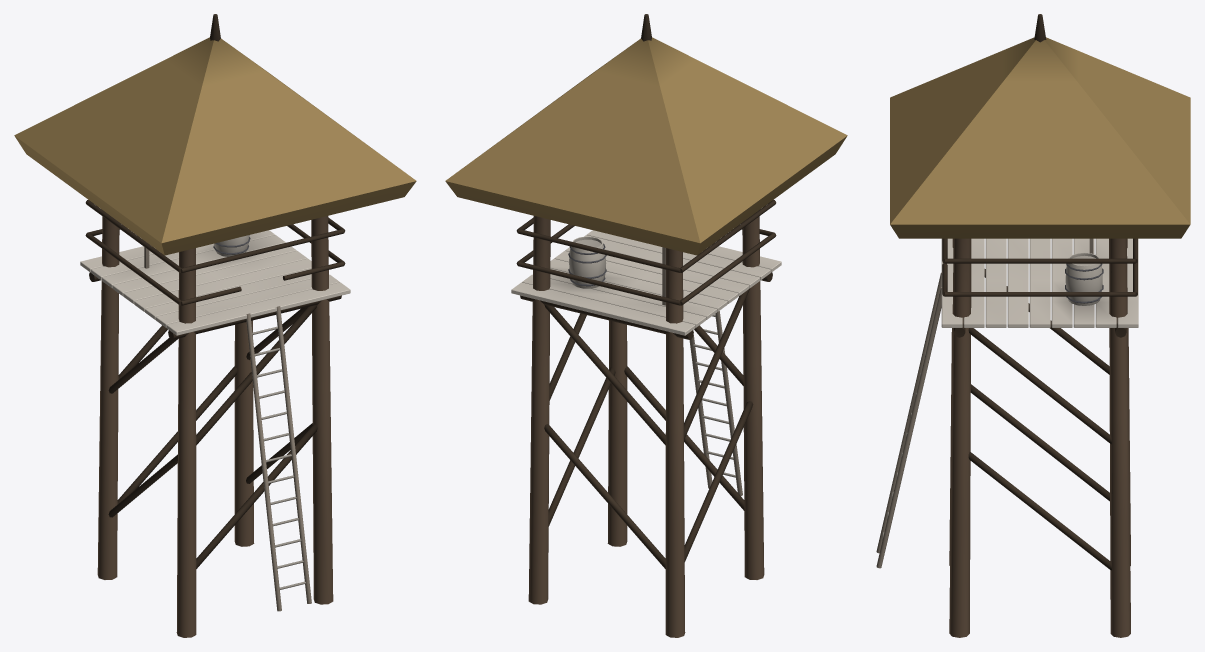
File: watchtower.glb
The picture shows the model from 3 angles, left to right: view 1: azimuth 30°, elevation 25°; view 2: azimuth 150°, elevation 25°; view 3: azimuth 270°, elevation 25°; orthographic projection.
Visible parts, largest first — view 1: watchtower; view 2: watchtower; view 3: watchtower.
Boxes of the visible parts, bbox=[...] form: watchtower: bbox=[14, 14, 416, 637]; watchtower: bbox=[445, 14, 847, 637]; watchtower: bbox=[876, 14, 1190, 637].
Bounding box in the file's own units: 4.1 × 8.8 × 4.28.
